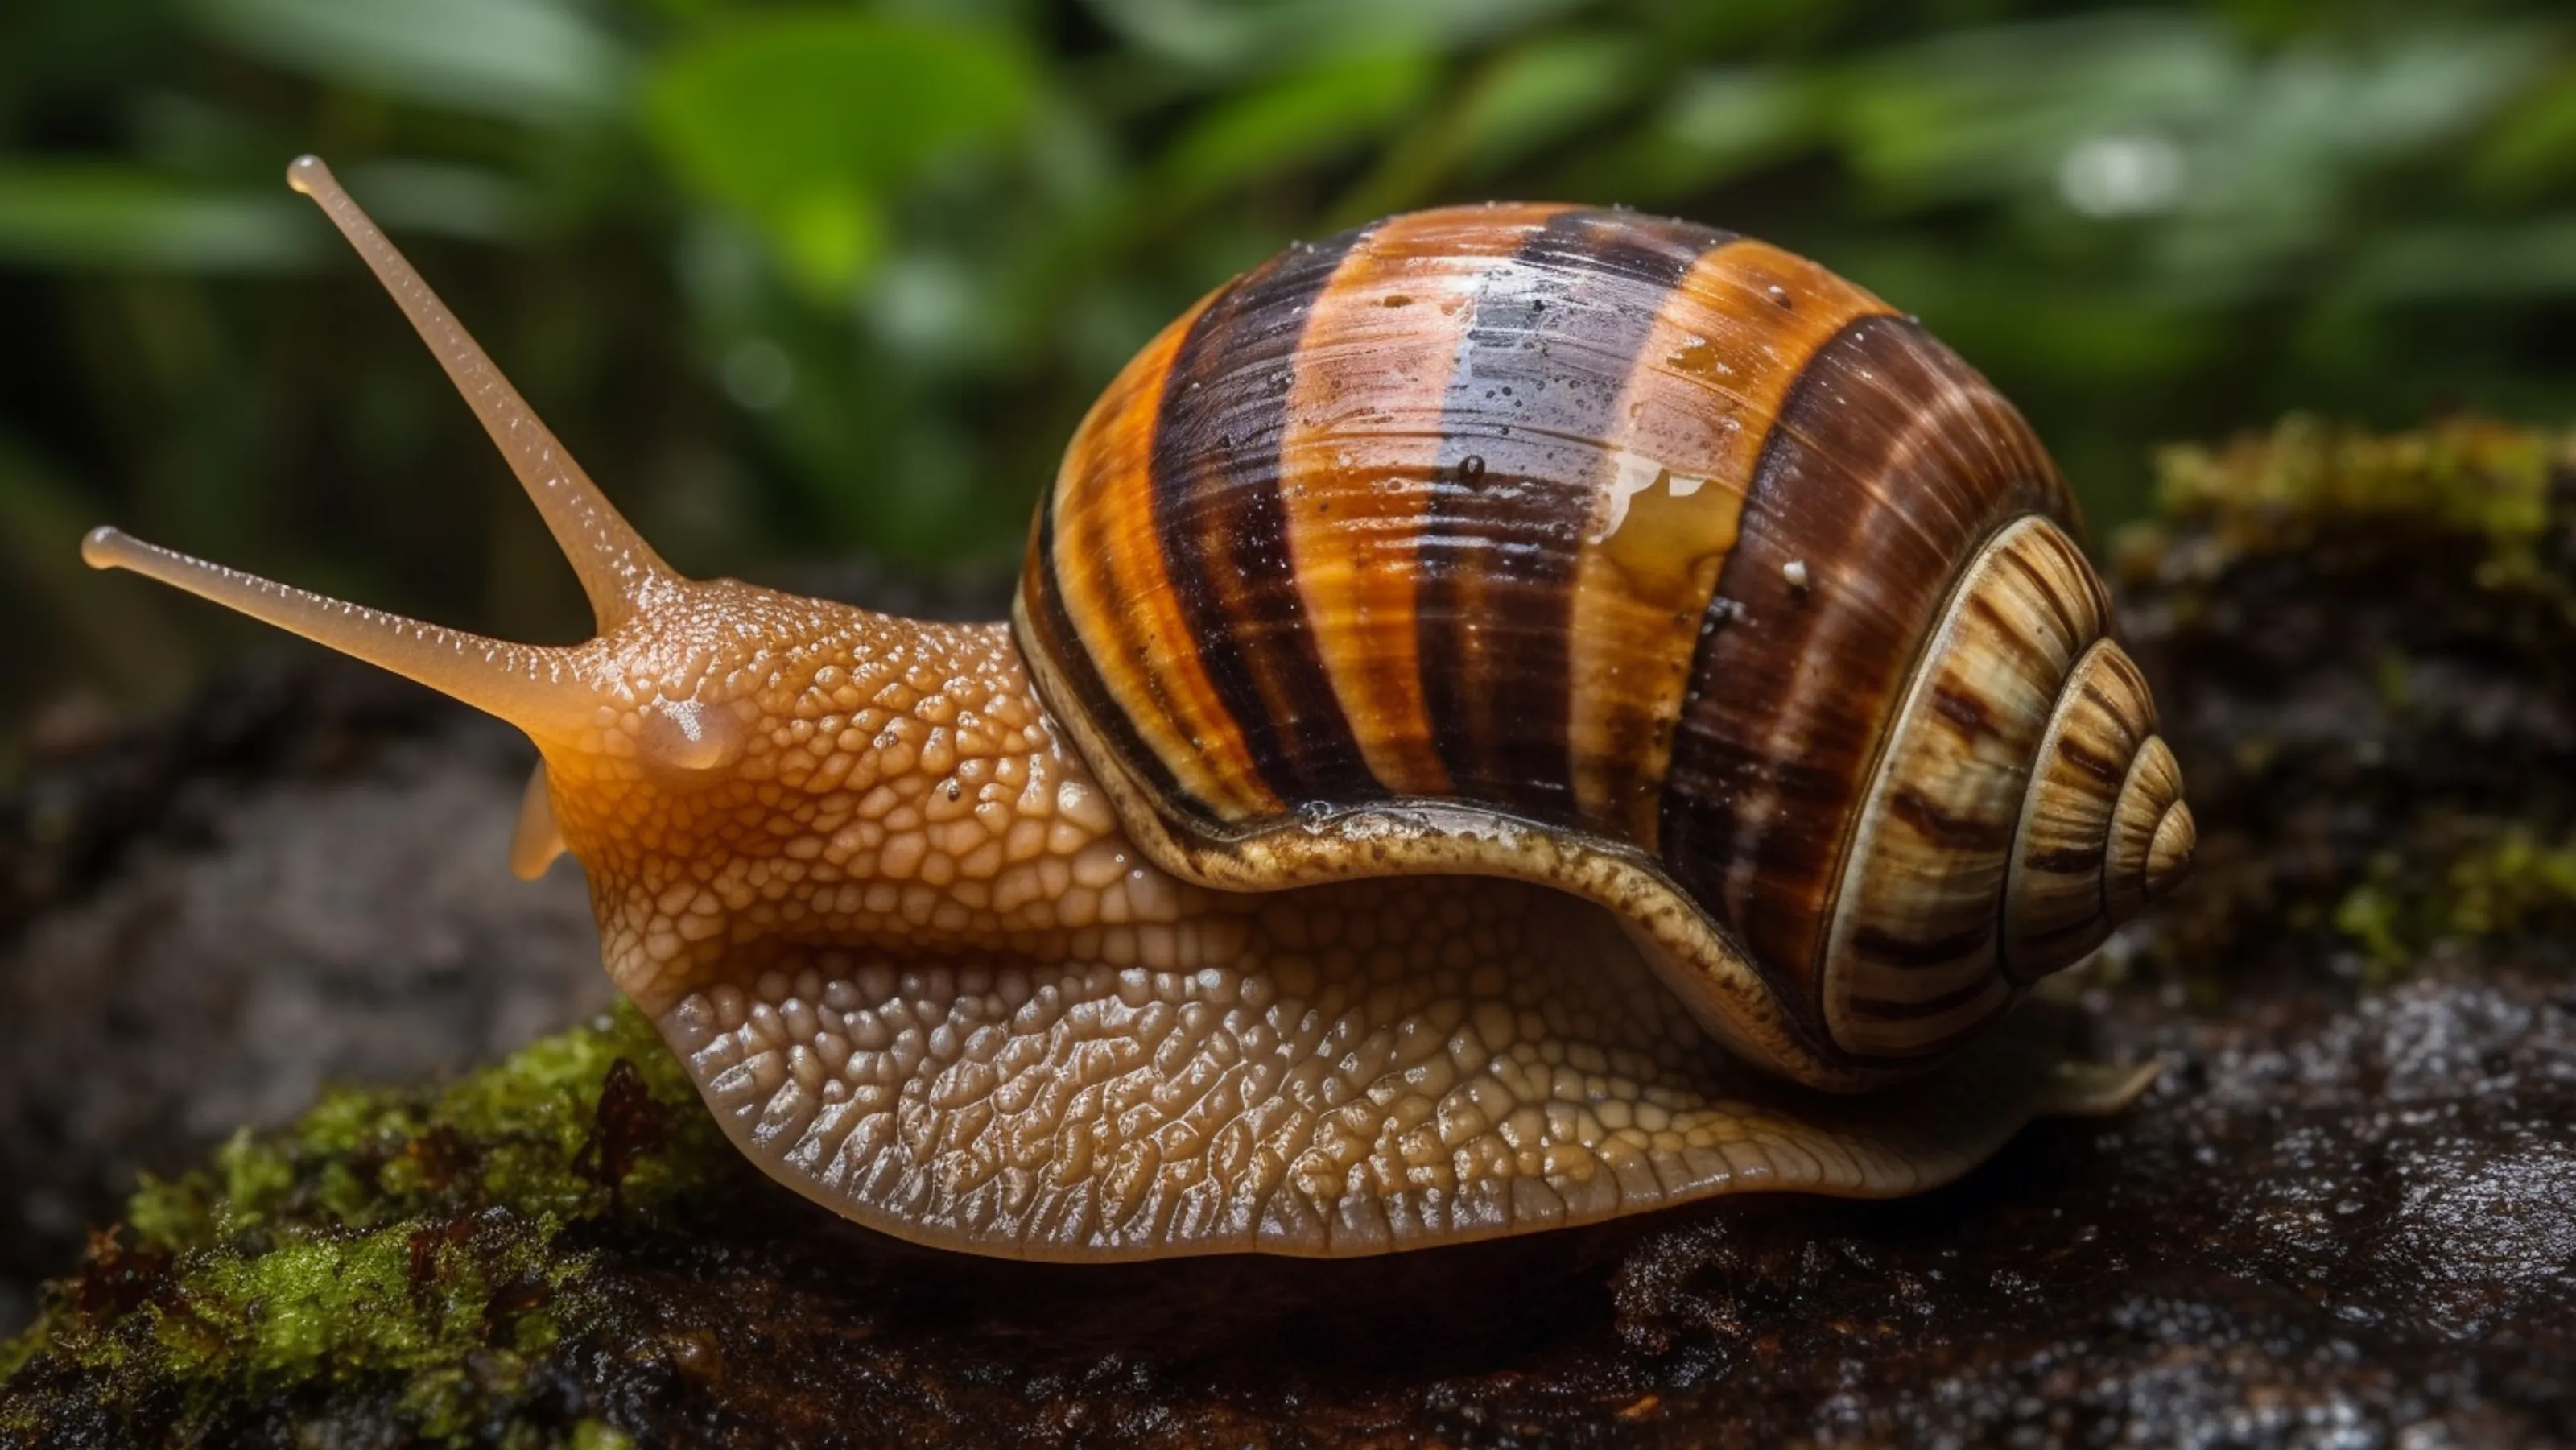snail: (69, 138, 2194, 1253)
